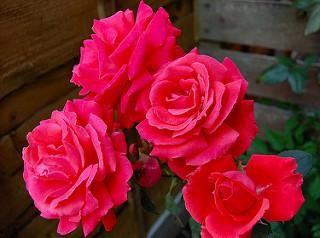Rose: (18, 101, 131, 236), (141, 51, 260, 179), (69, 2, 183, 126), (184, 161, 308, 235)
